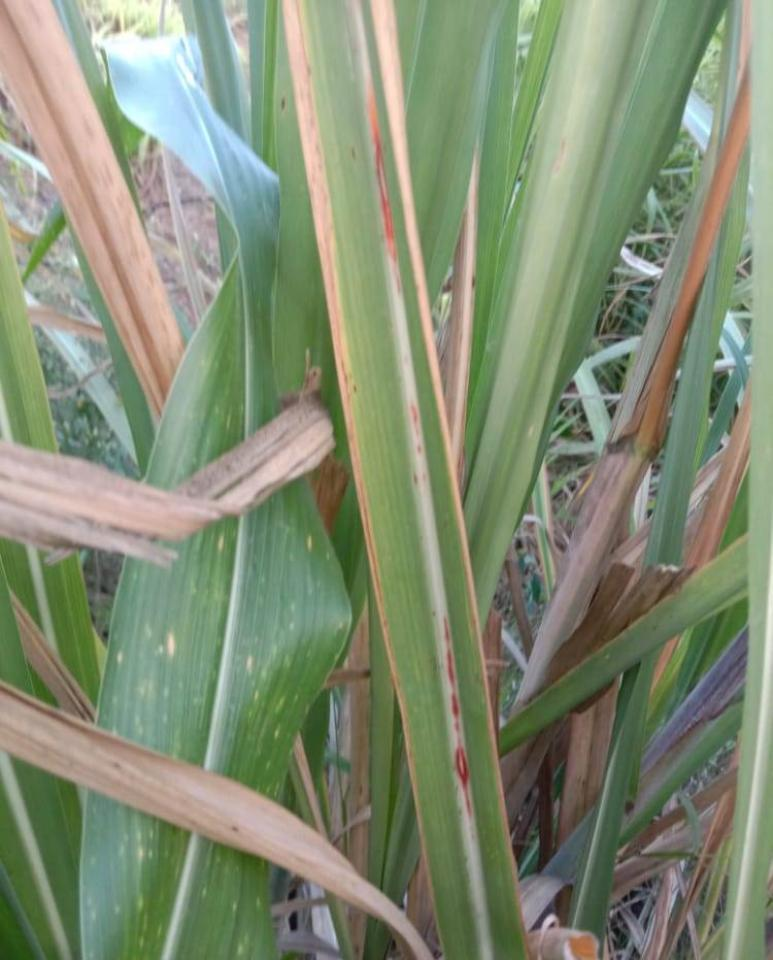RedRot: (367, 67, 402, 298), (443, 614, 475, 841), (409, 402, 427, 483)
Rust: (279, 97, 286, 111), (350, 146, 357, 159), (412, 473, 418, 487), (353, 383, 357, 394)
Yellow: (369, 0, 534, 959), (282, 0, 433, 890)
